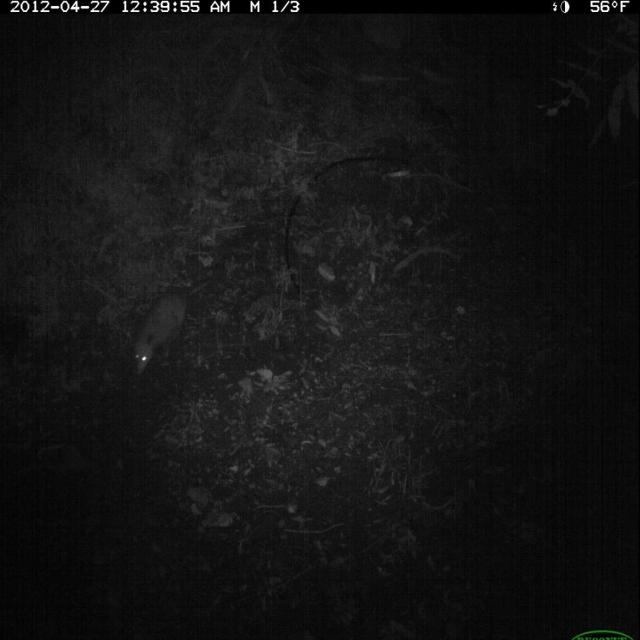opossum: (130, 276, 216, 385)
